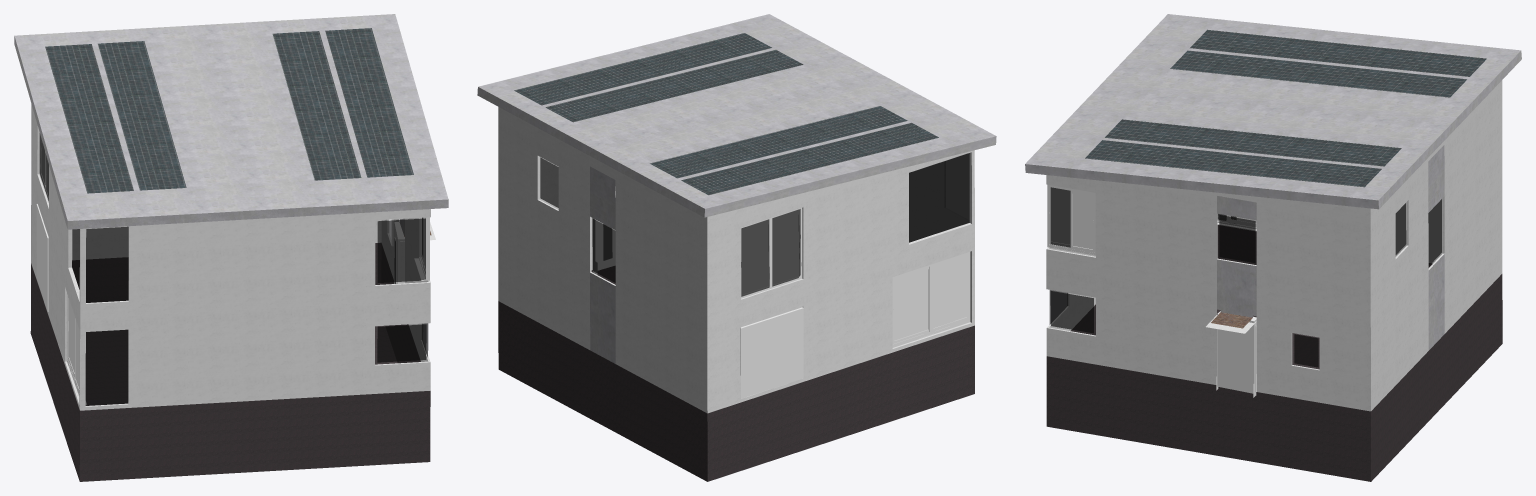
The picture shows the model from 3 angles, left to right: view 1: azimuth 30°, elevation 25°; view 2: azimuth 150°, elevation 25°; view 3: azimuth 270°, elevation 25°; orthographic projection. The views are drawn at different scales.
Parts seen in each view (by area): view 1: Mesh 67, Mesh 58, Mesh 32, Mesh 75, Mesh 50, Mesh 50.002, CTRL_Hole; view 2: Mesh 67, Mesh 58, Mesh 32, Mesh 75, Mesh 50, Mesh 50.002, CTRL_Hole, Window.R, Window.L, Window.L.001, Window.R.001, WindowFrame (+1 smaller); view 3: Mesh 67, Mesh 58, Mesh 32, Mesh 75, Mesh 50, Mesh 50.002, CTRL_Hole.004, Window.R.003, CTRL_Hole, Window.L.003, WindowFrame.003.
Part boxes in pixels (box(x1,y1,x2,y2)): Mesh 67: box(31, 104, 435, 410); Mesh 58: box(14, 14, 448, 235); Mesh 32: box(30, 243, 430, 481); Mesh 75: box(45, 28, 413, 193); Mesh 50: box(40, 135, 427, 405); Mesh 50.002: box(40, 136, 427, 405); CTRL_Hole: box(36, 204, 48, 311); Mesh 67: box(498, 107, 974, 413); Mesh 58: box(477, 14, 996, 363); Mesh 32: box(498, 266, 974, 481); Mesh 75: box(514, 33, 938, 195); Mesh 50: box(540, 153, 969, 296); Mesh 50.002: box(540, 153, 969, 295); CTRL_Hole: box(740, 307, 803, 398); Window.R: box(929, 253, 968, 332); Window.L: box(893, 267, 929, 343); Window.L.001: box(741, 220, 772, 298); Window.R.001: box(771, 211, 801, 288); WindowFrame: box(892, 252, 970, 347); Mesh 67: box(1046, 80, 1502, 411); Mesh 58: box(1025, 14, 1521, 350); Mesh 32: box(1046, 225, 1502, 481); Mesh 75: box(1085, 29, 1486, 187); Mesh 50: box(1050, 187, 1441, 367); Mesh 50.002: box(1050, 187, 1441, 366); CTRL_Hole.004: box(1217, 311, 1256, 393); Window.R.003: box(1070, 190, 1094, 252); CTRL_Hole: box(1395, 198, 1442, 263); Window.L.003: box(1049, 187, 1070, 247); WindowFrame.003: box(1047, 184, 1095, 255).
Bounding box in the file's own units: 12.75 × 8.25 × 12.77.
Materials: 15 (8 with a texture image).
